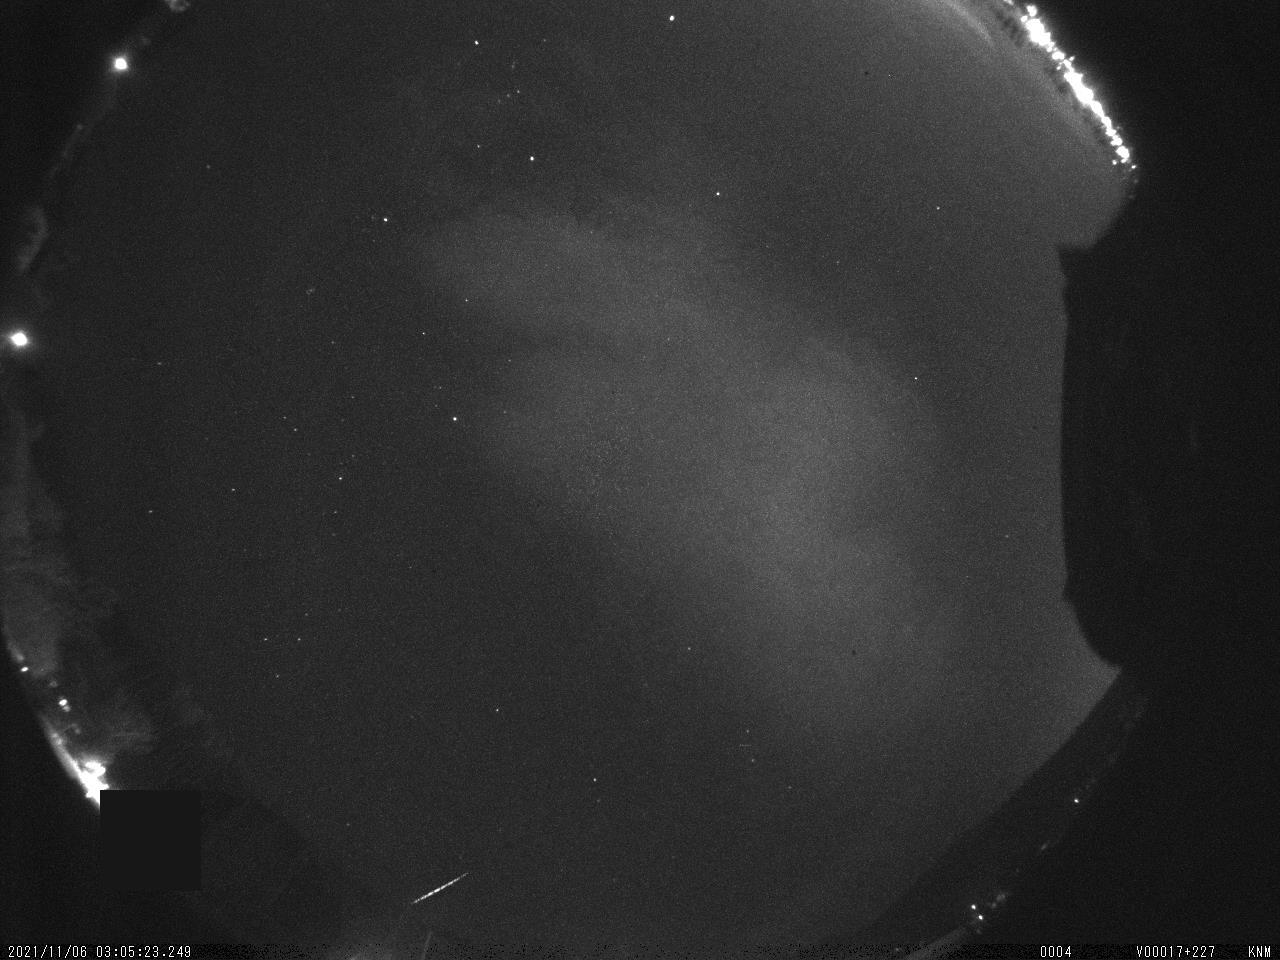meteor: (398, 861, 479, 919)
